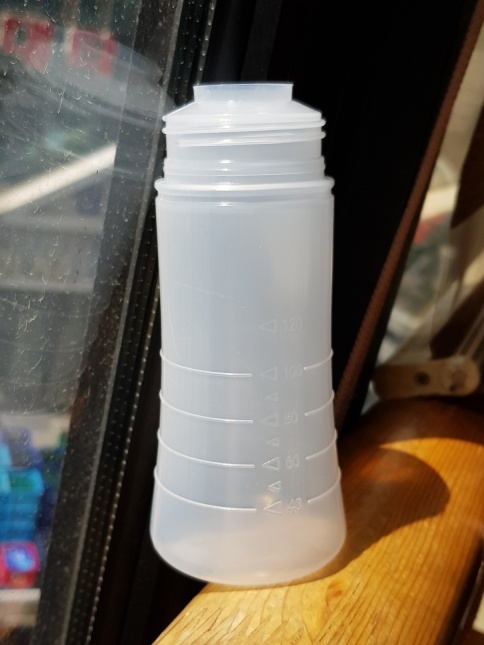Plastic: (144, 73, 352, 590)
